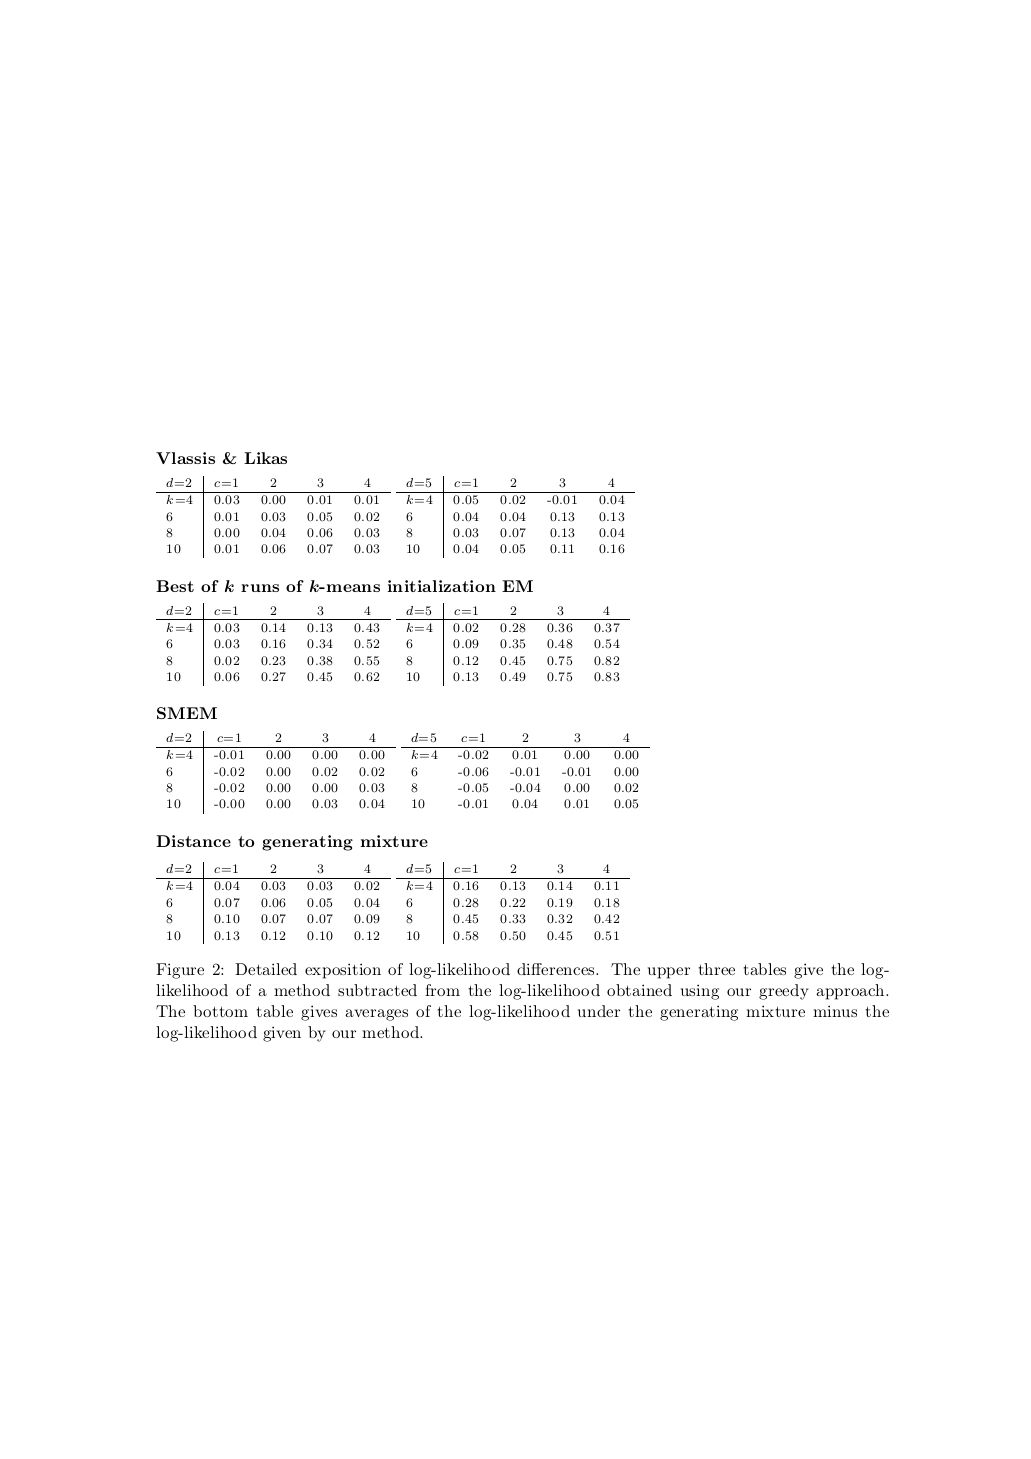Table: (156, 729, 649, 814), (156, 602, 629, 686), (156, 475, 634, 558), (156, 861, 629, 944)
